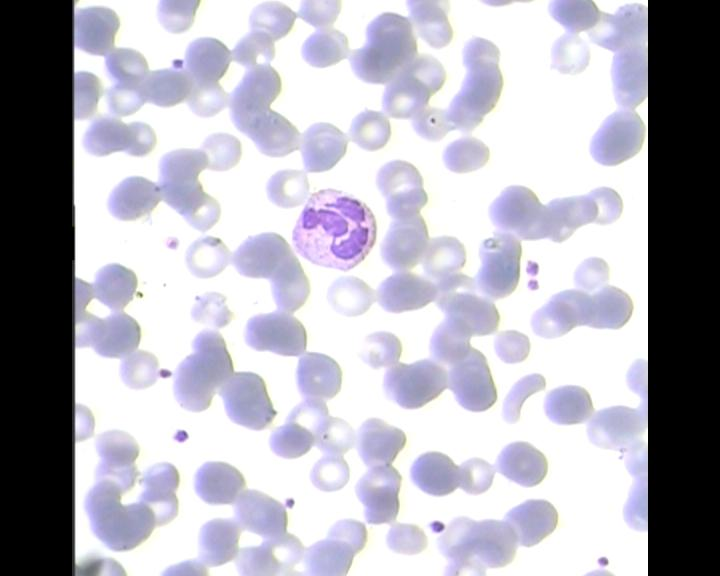neut: (286, 188, 382, 272)
